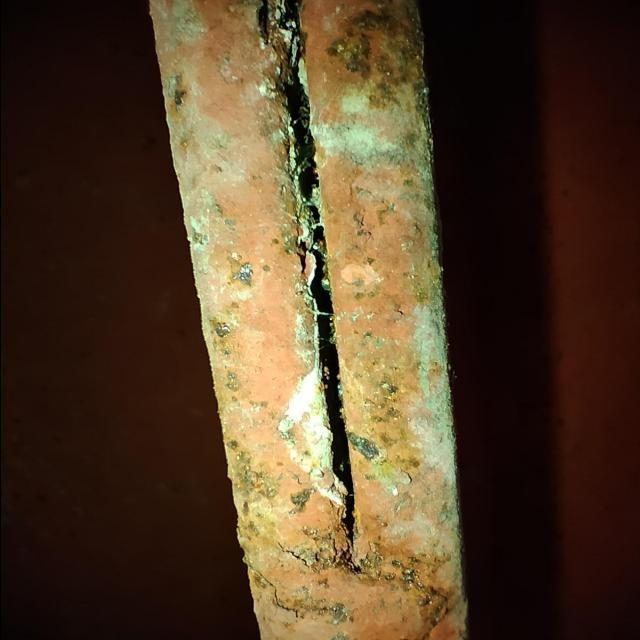Crack: (253, 0, 361, 548), (253, 568, 303, 621), (271, 538, 313, 570)
